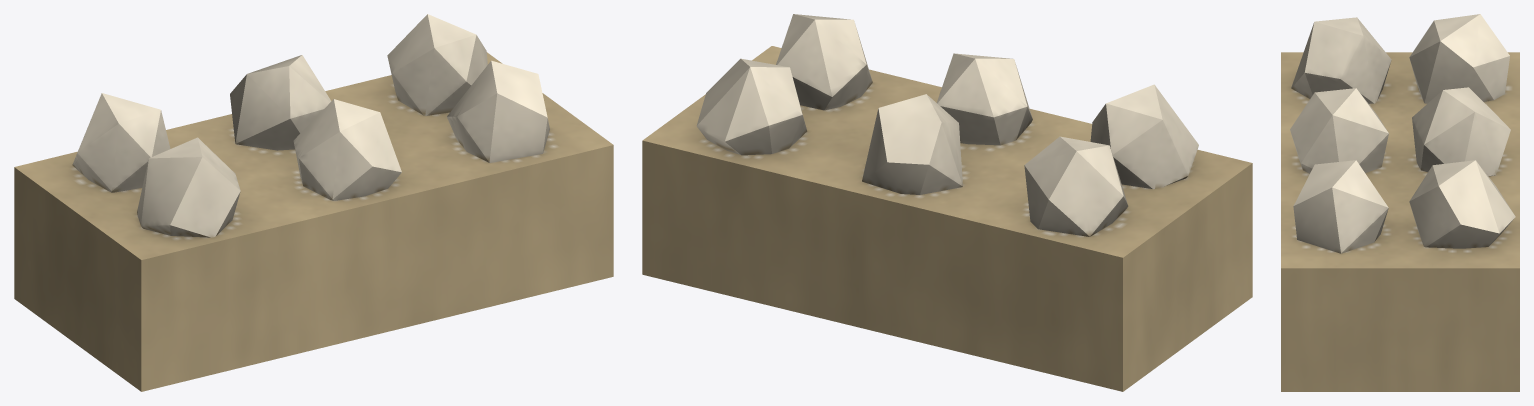
Rendered from Item_Eggs.fbx.
3 views of the same model, side by side, from view 1: azimuth 30°, elevation 25°; view 2: azimuth 150°, elevation 25°; view 3: azimuth 270°, elevation 25° (orthographic). The views are drawn at different scales.
Parts seen in each view (by area): view 1: Item_Eggs; view 2: Item_Eggs; view 3: Item_Eggs.
Boxes of the visible parts, left/top/right/bottom form: Item_Eggs: left=14, top=14, right=613, bottom=391; Item_Eggs: left=642, top=14, right=1252, bottom=391; Item_Eggs: left=1281, top=14, right=1519, bottom=391.
Bounding box in the file's own units: 0.3 × 0.1256 × 0.14.
Materials: 1 (1 with a texture image).
